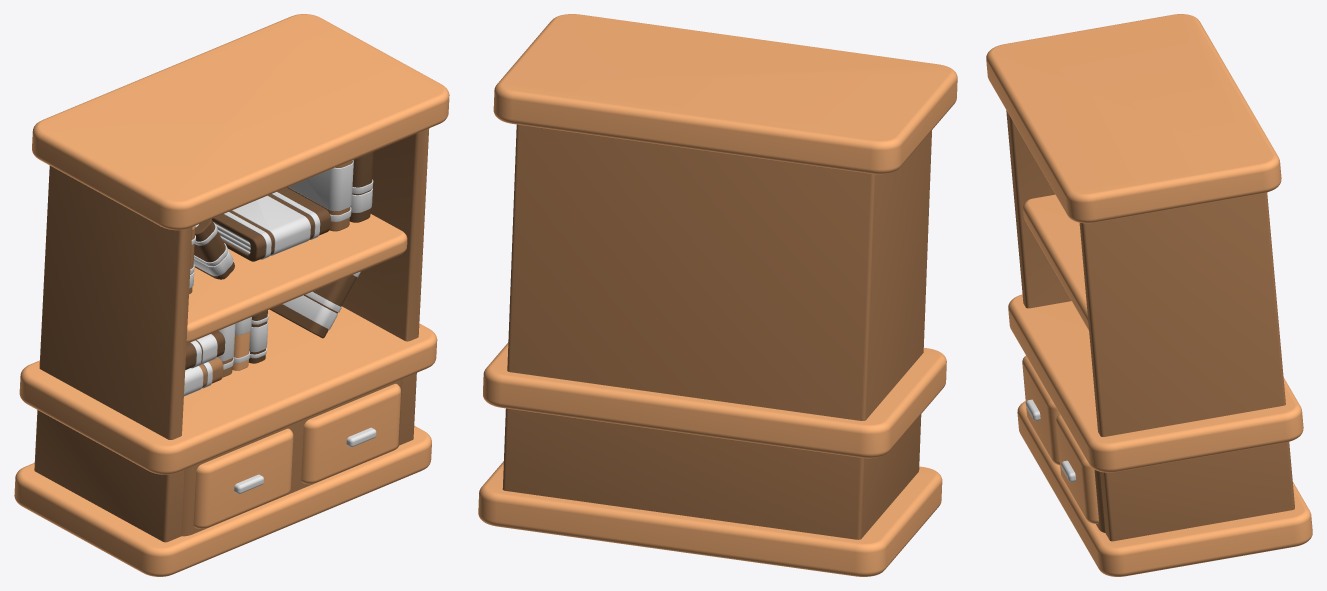
File: Board.fbx
3 views of the same model, side by side, from view 1: azimuth 30°, elevation 25°; view 2: azimuth 150°, elevation 25°; view 3: azimuth 270°, elevation 25° (orthographic). The views are drawn at different scales.
Visible parts, largest first — view 1: Cube.009, Cube.006, Cube.010, Cube.007, Cube.008, Cube.013, Cube.012, Cube.011, Cube.042, Cube.041, Cube.037, Cube.056 (+3 smaller); view 2: Cube.006, Cube.009, Cube.010, Cube.007; view 3: Cube.006, Cube.009, Cube.010, Cube.007, Cube.008, Cube.013, Cube.012.
Boxes of the visible parts, x1,y1,x2,y2 form: Cube.009: (32,14,449,230); Cube.006: (34,128,429,542); Cube.010: (19,306,437,474); Cube.007: (14,426,431,576); Cube.008: (186,214,407,343); Cube.013: (301,383,400,484); Cube.012: (193,428,293,528); Cube.011: (181,379,402,536); Cube.042: (232,195,310,255); Cube.041: (212,187,330,261); Cube.037: (288,160,353,211); Cube.056: (269,275,356,338); Cube.006: (502,124,931,539); Cube.009: (493,14,957,174); Cube.010: (483,342,946,458); Cube.007: (478,461,942,576); Cube.006: (1006,110,1294,541); Cube.009: (986,14,1281,223); Cube.010: (1008,294,1303,472); Cube.007: (1017,401,1312,576); Cube.008: (1023,194,1088,330); Cube.013: (1056,414,1098,523); Cube.012: (1022,356,1059,465).
Size of the model in its own units: 528 by 560 by 412.
